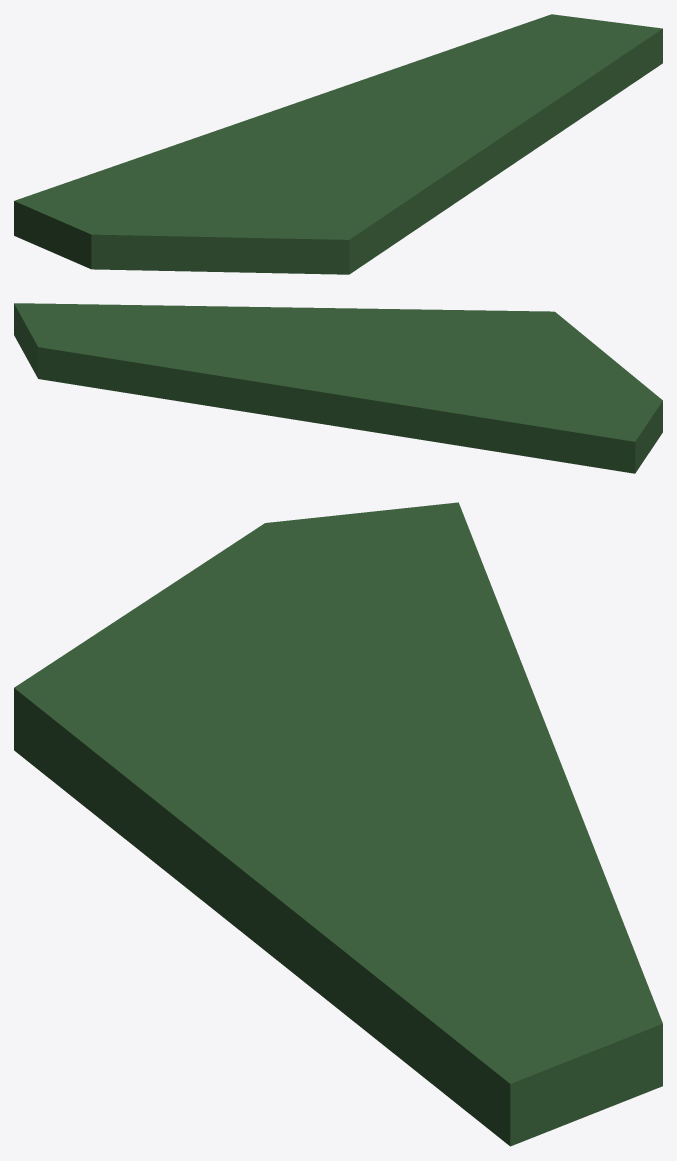
File: x_proval_00_22_1_rmstrd.fbx
The picture shows the model from 3 angles, top to bottom: view 1: azimuth 30°, elevation 25°; view 2: azimuth 150°, elevation 25°; view 3: azimuth 270°, elevation 25°; orthographic projection. The views are drawn at different scales.
Parts seen in each view (by area): view 1: x_proval_00_22_1_rmstrd1; view 2: x_proval_00_22_1_rmstrd1; view 3: x_proval_00_22_1_rmstrd1.
Part boxes in pixels (x1=…): x_proval_00_22_1_rmstrd1: x1=14, y1=14, x2=662, y2=274; x_proval_00_22_1_rmstrd1: x1=14, y1=303, x2=662, y2=473; x_proval_00_22_1_rmstrd1: x1=14, y1=502, x2=662, y2=1146.
Size of the model in its own units: 3.99 by 0.2 by 1.88.
